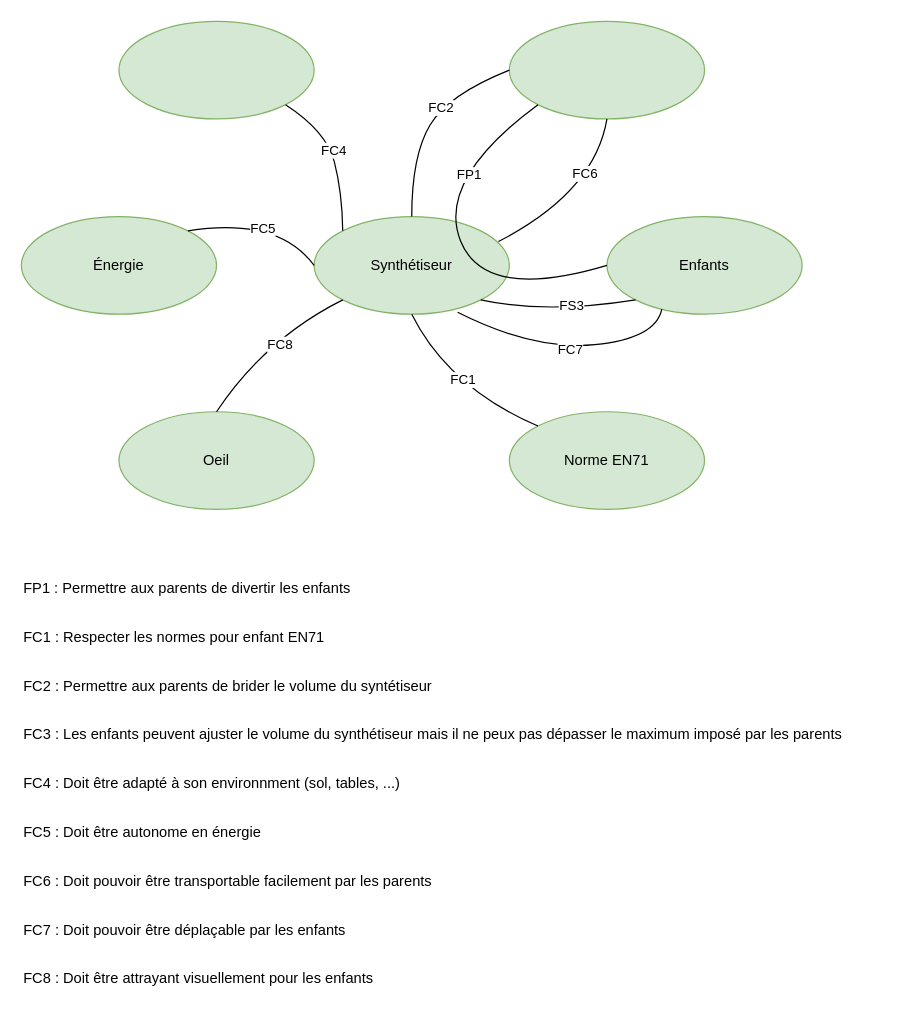
The diagram is 921 pixels wide and 1019 high, and some of its shapes have lost their labels. Here are the shapes that lost their labels. From the top down, the centre of each, then its label:
At point 216,69: "Environnement".
At point 606,69: "Parents".
